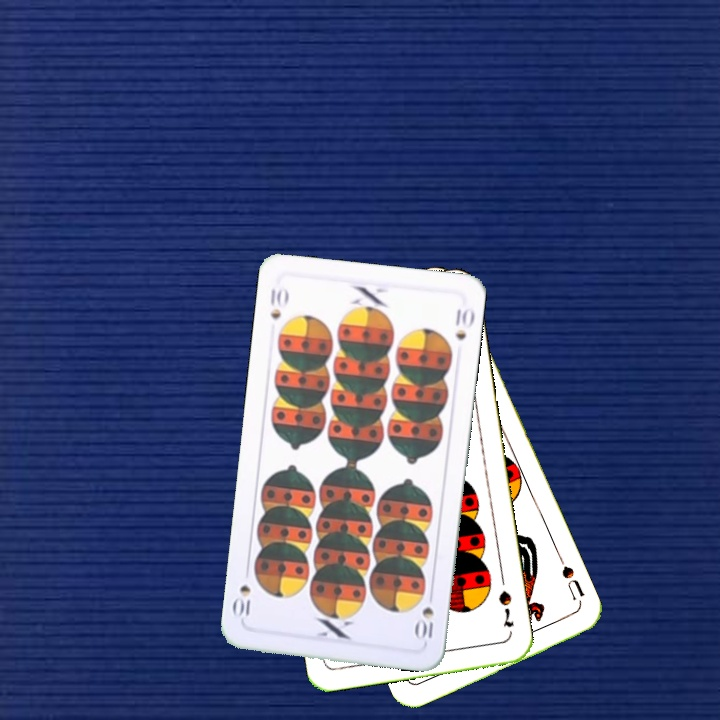S10: (266, 280, 291, 322), (413, 602, 436, 642)
S7: (494, 586, 517, 630)
SU: (554, 552, 588, 609)
